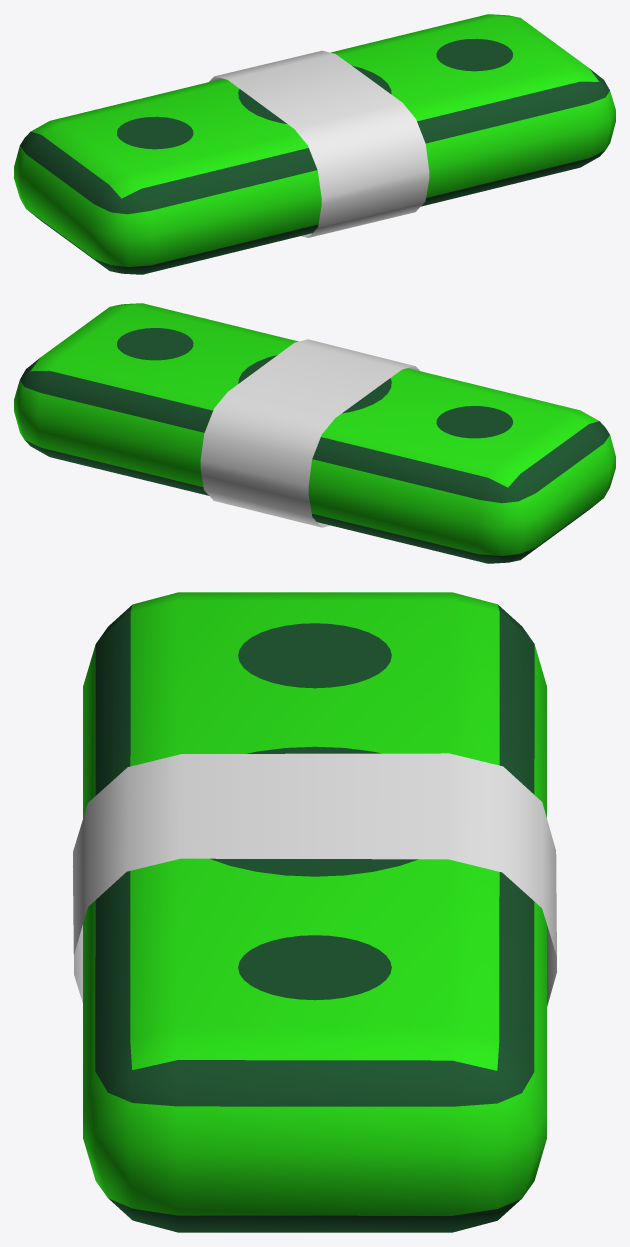
File: Money2.fbx
The picture shows the model from 3 angles, top to bottom: view 1: azimuth 30°, elevation 25°; view 2: azimuth 150°, elevation 25°; view 3: azimuth 270°, elevation 25°; orthographic projection. The views are drawn at different scales.
Parts seen in each view (by area): view 1: Money.001; view 2: Money.001; view 3: Money.001.
Part boxes in pixels (x1,y1,x2,y2): Money.001: (14,14,615,274); Money.001: (14,303,615,563); Money.001: (72,592,557,1232).
Bounding box in the file's own units: 97.76 × 19.11 × 39.37.
